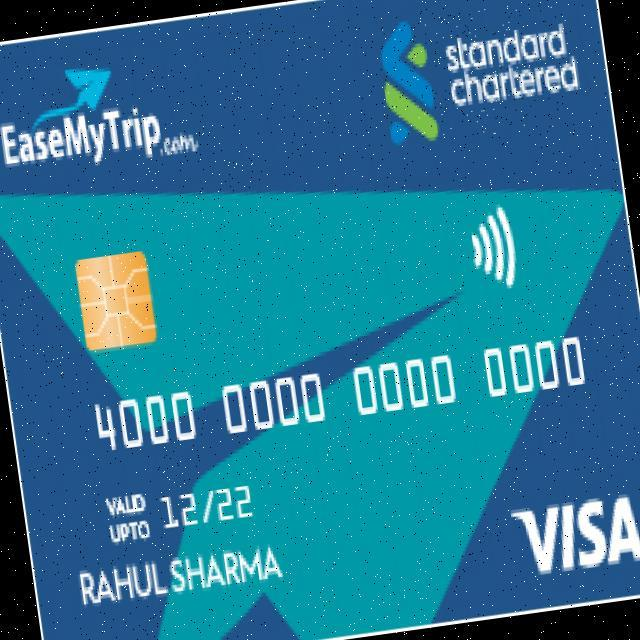Standard Chartered: (370, 0, 586, 150)
